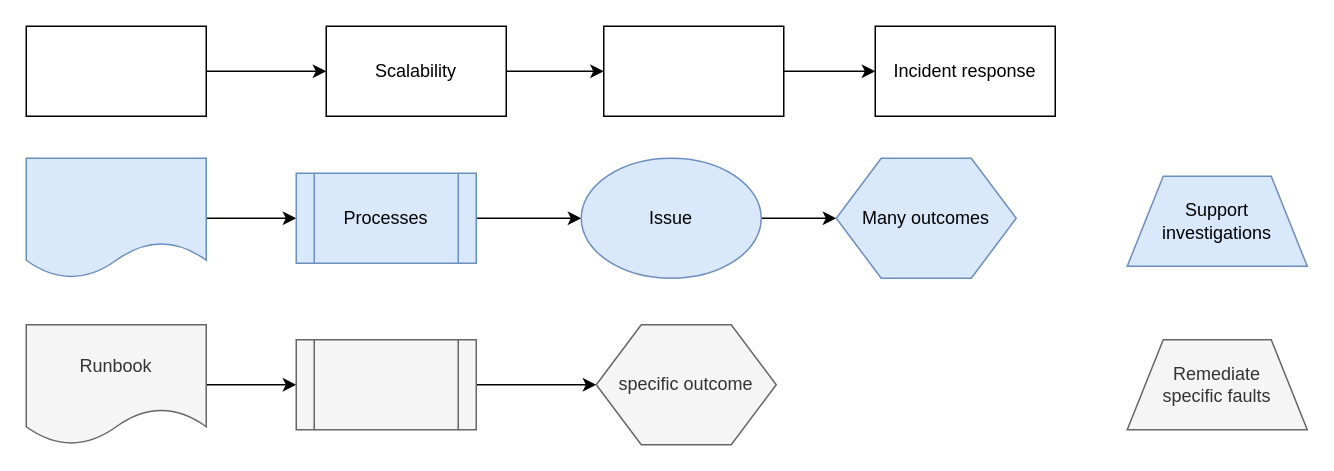
The diagram is 1334 pixels wide and 471 high, and some of its shapes have lost their labels. The shapes that lost their labels are listed below. From the top down, each one's centre as x and y in pixels, then its label:
At point (115, 70): "Reliability".
At point (693, 70): "Traceability".
At point (115, 217): "Playbook".
At point (385, 384): "Procedures".
